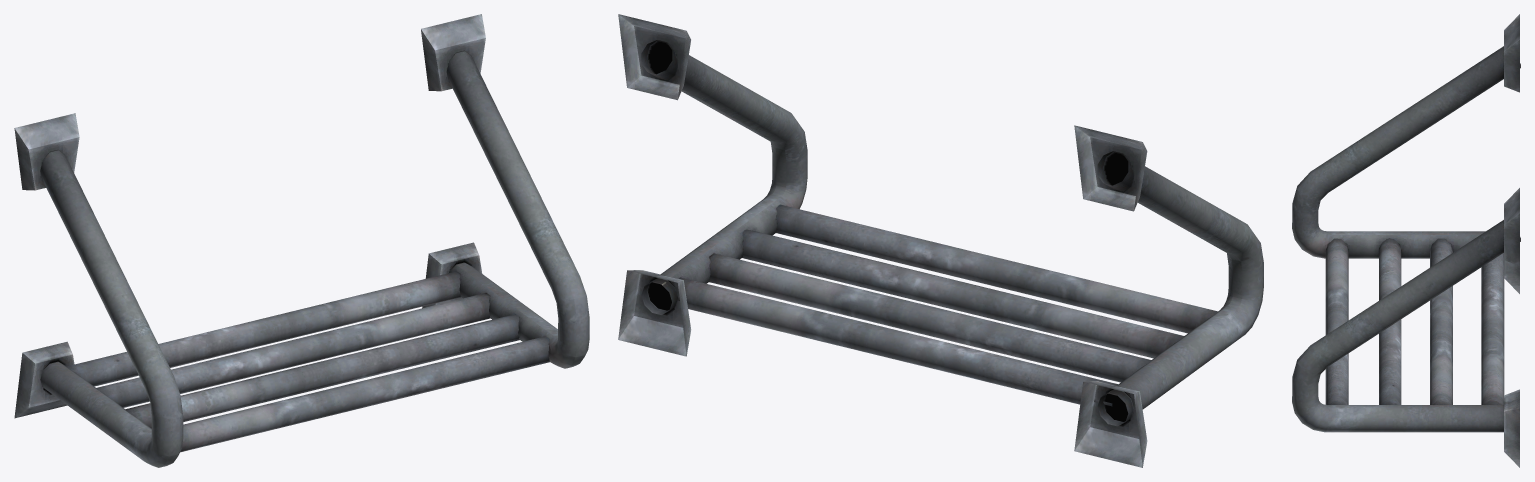
The model's file is racks_small.dae.
3 views of the same model, side by side, from view 1: azimuth 30°, elevation 25°; view 2: azimuth 150°, elevation 25°; view 3: azimuth 270°, elevation 25° (orthographic). The views are drawn at different scales.
Visible parts, largest first — view 1: Mesh__3_; view 2: Mesh__3_; view 3: Mesh__3_.
Boxes of the visible parts, <box> form: Mesh__3_: <box>14,14,589,467</box>; Mesh__3_: <box>618,14,1263,467</box>; Mesh__3_: <box>1292,14,1520,467</box>.
Size of the model in its own units: 1.09 by 0.6465 by 0.5269.
